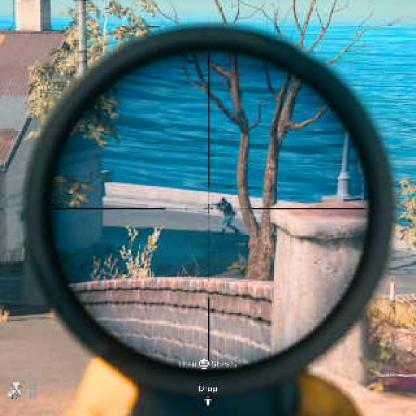enemy: (216, 196, 238, 233)
